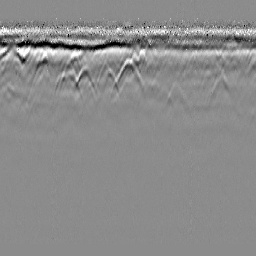cavity: (111, 57, 145, 97)
